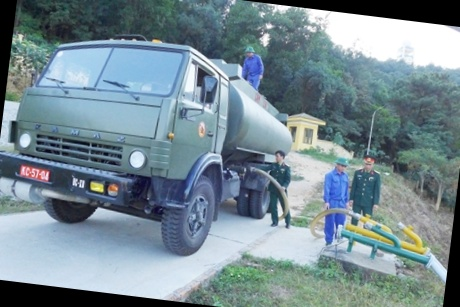plate: (18, 161, 50, 185)
